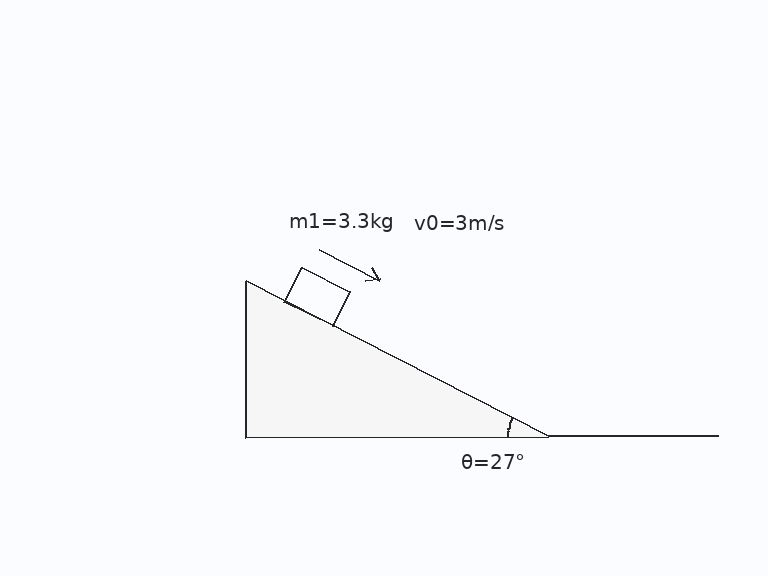block: (282, 265, 352, 328)
ramp: (243, 280, 550, 438)
